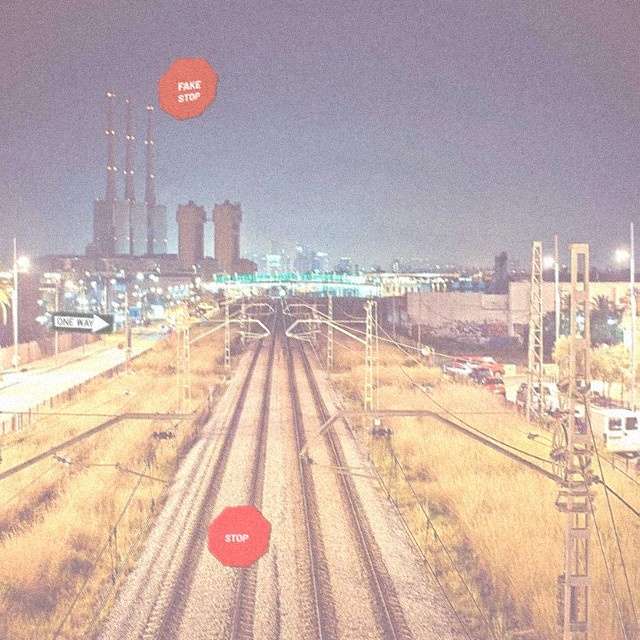FAKE_STOP: (157, 56, 219, 120)
ONE_WAY_ right: (51, 310, 115, 334)
STOP: (208, 504, 272, 567)
